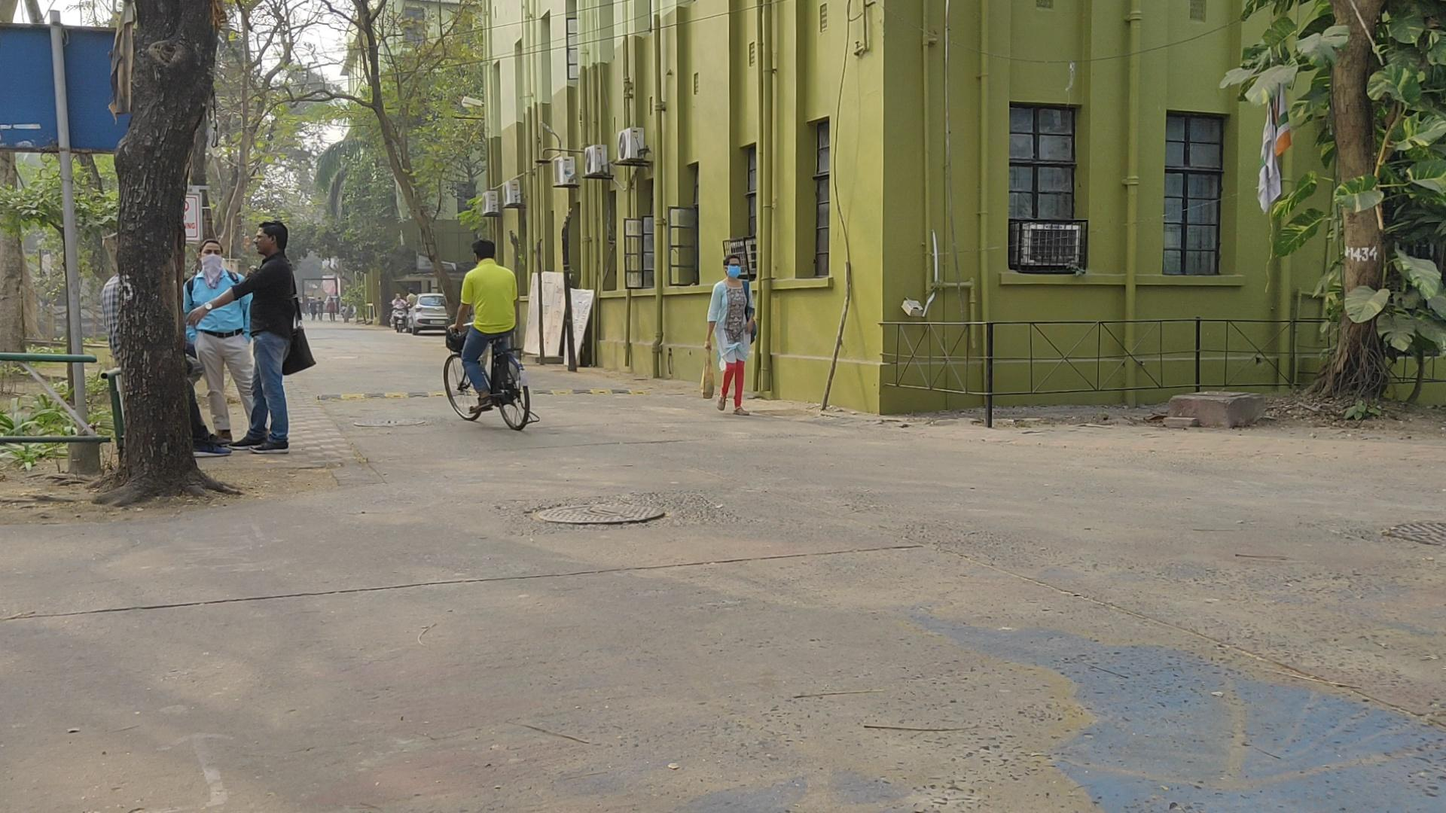bike: (444, 239, 542, 432), (388, 293, 411, 333)
car: (405, 293, 450, 334)
